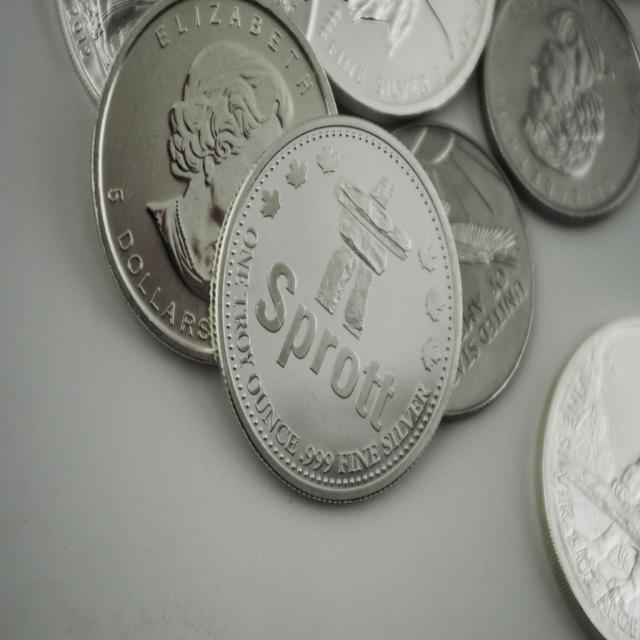Coin: (57, 0, 640, 499), (536, 312, 640, 639)
